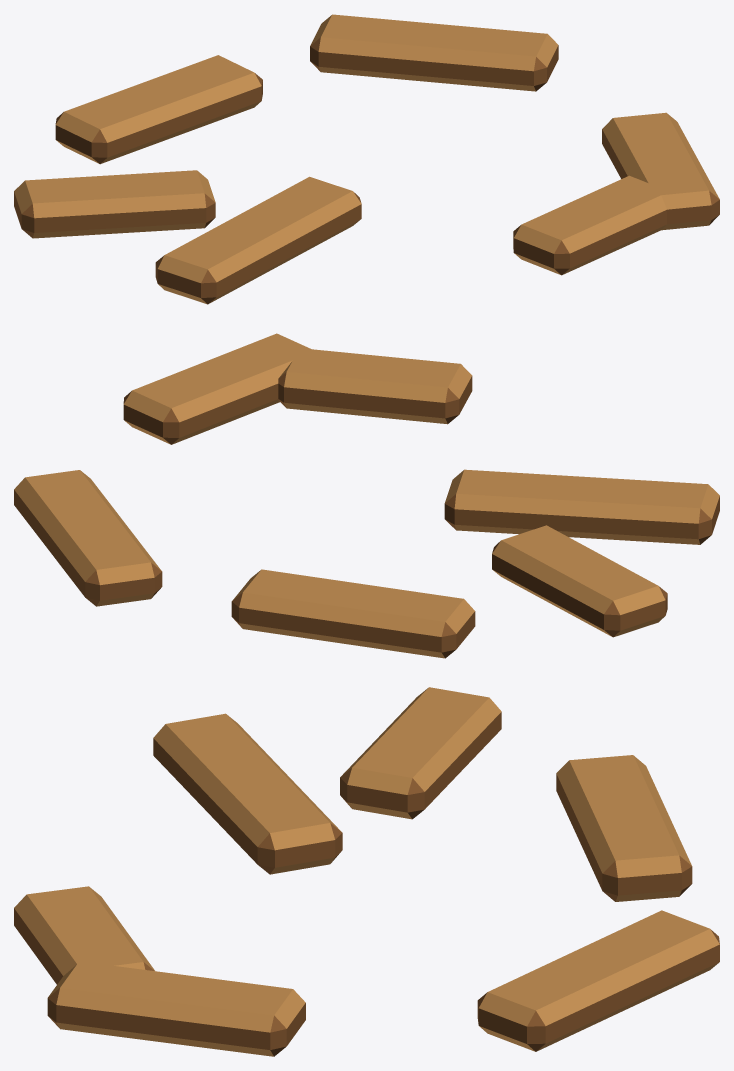
The model's file is crate-debris.glb.
3 views of the same model, one above another, from view 1: azimuth 30°, elevation 25°; view 2: azimuth 150°, elevation 25°; view 3: azimuth 270°, elevation 25° (orthographic). The views are drawn at different scales.
Parts seen in each view (by area): view 1: Splinter1, Splinter0, Splinter2, Splinter4, Splinter5, Splinter3; view 2: Splinter0, Splinter2, Splinter1, Splinter5, Splinter4, Splinter3; view 3: Splinter1, Splinter3, Splinter0, Splinter2, Splinter4, Splinter5.
Part boxes in pixels (x1,y1,x2,y2): Splinter1: [310, 14, 558, 91]; Splinter0: [155, 176, 361, 304]; Splinter2: [55, 55, 262, 164]; Splinter4: [14, 170, 215, 238]; Splinter5: [513, 175, 668, 275]; Splinter3: [602, 112, 719, 230]; Splinter0: [444, 469, 719, 544]; Splinter2: [231, 569, 475, 658]; Splinter1: [14, 470, 162, 606]; Splinter5: [278, 348, 472, 424]; Splinter4: [492, 525, 667, 637]; Splinter3: [123, 333, 315, 444]; Splinter1: [477, 910, 719, 1051]; Splinter3: [47, 961, 305, 1056]; Splinter0: [153, 713, 342, 874]; Splinter2: [556, 755, 692, 901]; Splinter4: [340, 687, 501, 819]; Splinter5: [14, 886, 154, 984].
Size of the model in its own units: 1.58 by 0.09 by 1.39.
